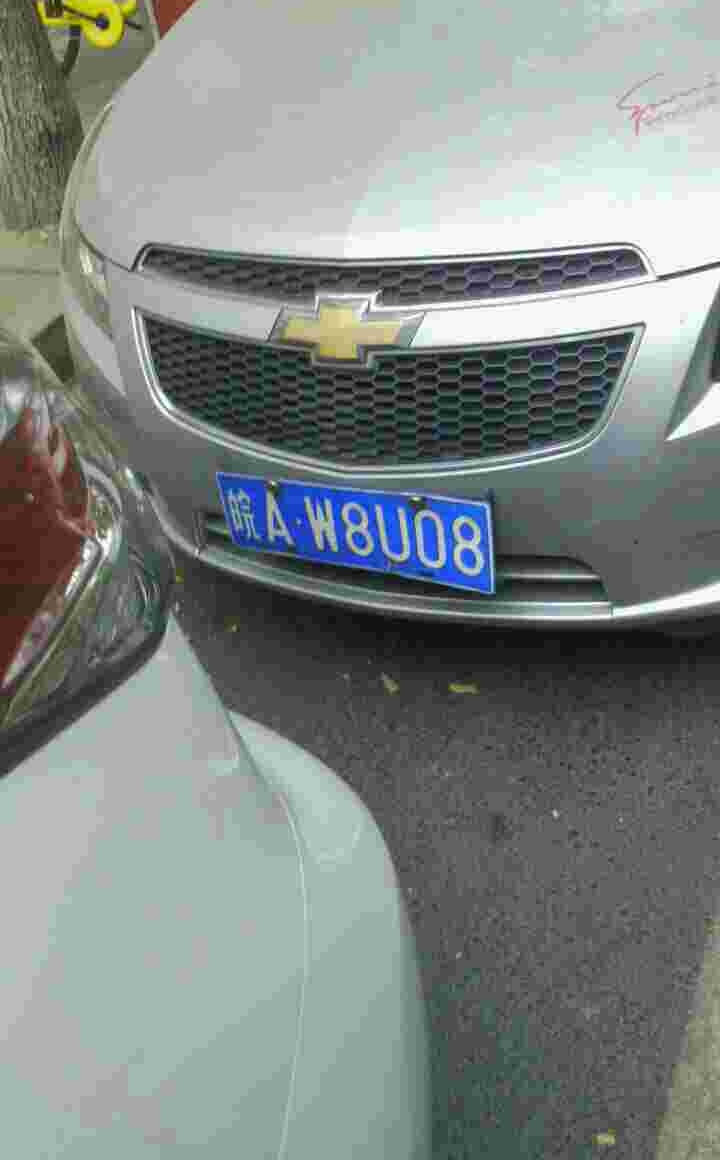license_plate: (209, 473, 502, 592)
